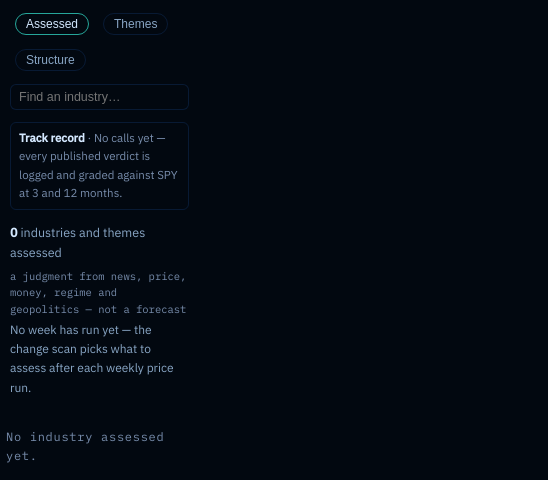
Scenario: IndustryView › groups by sector and says how many Pythia has answered
The width and height of the screenshot is (548, 480).
Click the tab "Structure".
click(50, 60)  # box 15,49 -> 86,71
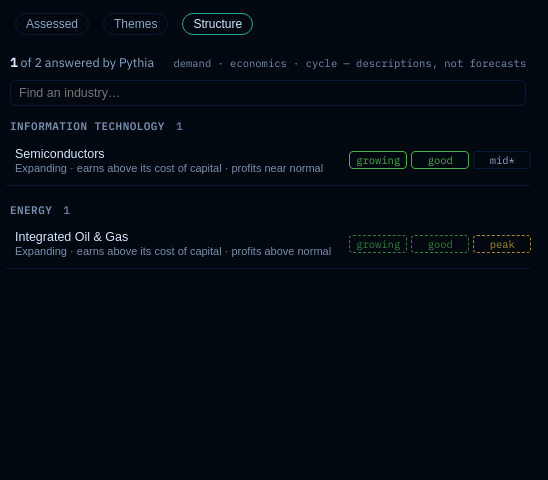
Expected: the heading "Information Technology 1" is shown, 10,119 -> 183,133
Expected: the heading "Energy 1" is shown, 10,203 -> 70,217
Expected: the text "1 of 2 answered by Pythia" is shown, 10,52 -> 154,72
